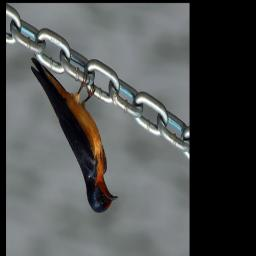Swallow: (30, 53, 119, 214)
